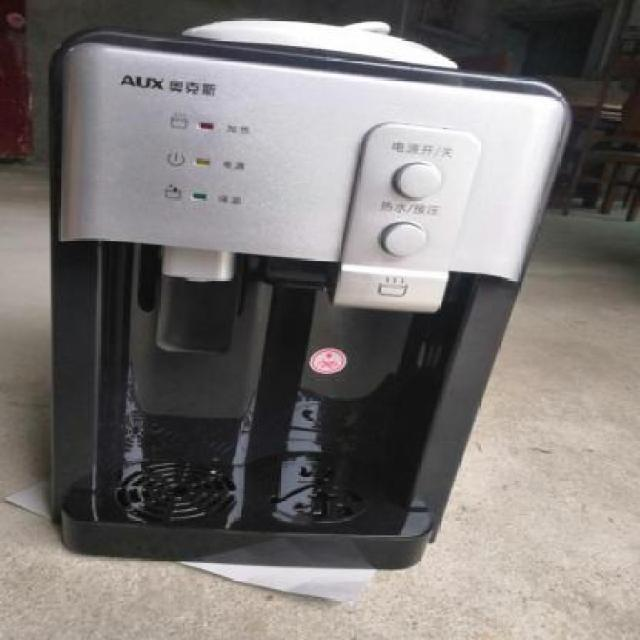cooler: (40, 15, 578, 577)
